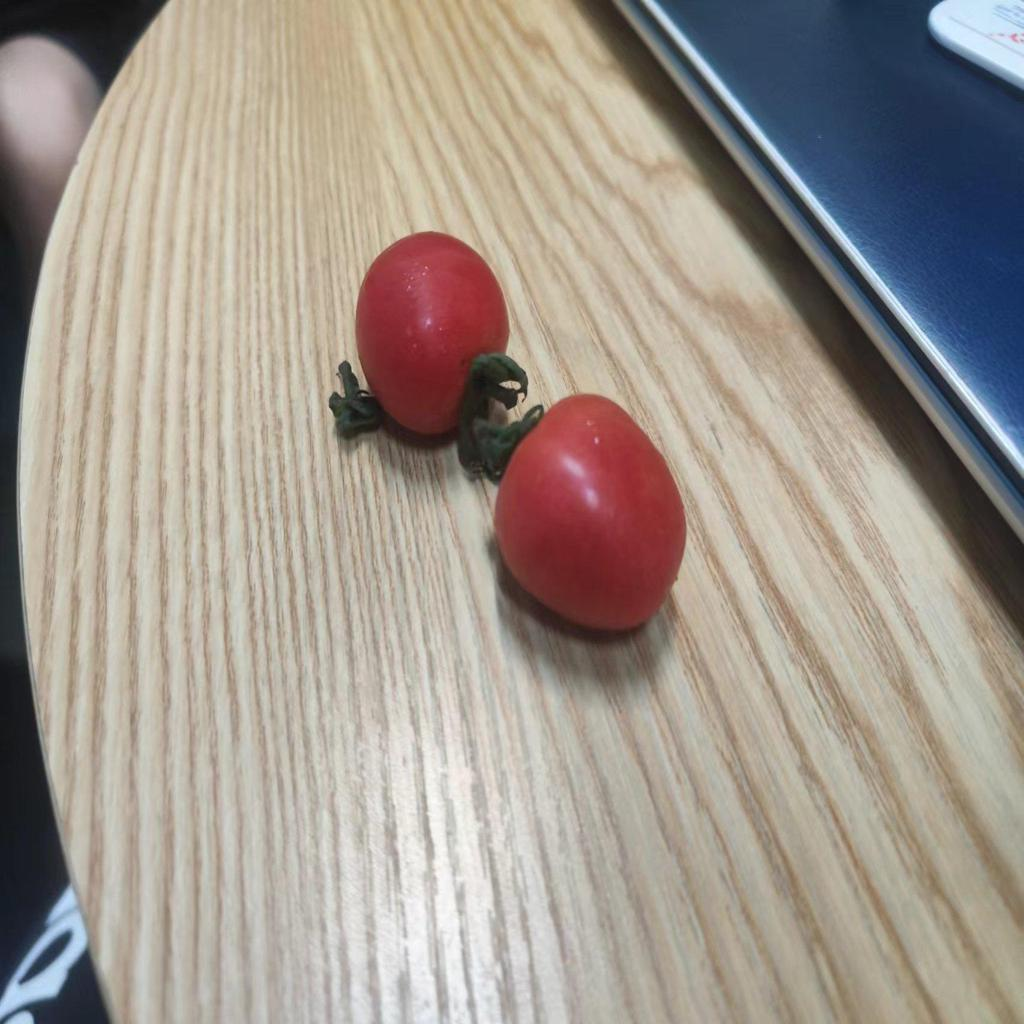tomato: (500, 396, 685, 633), (344, 218, 515, 449)
